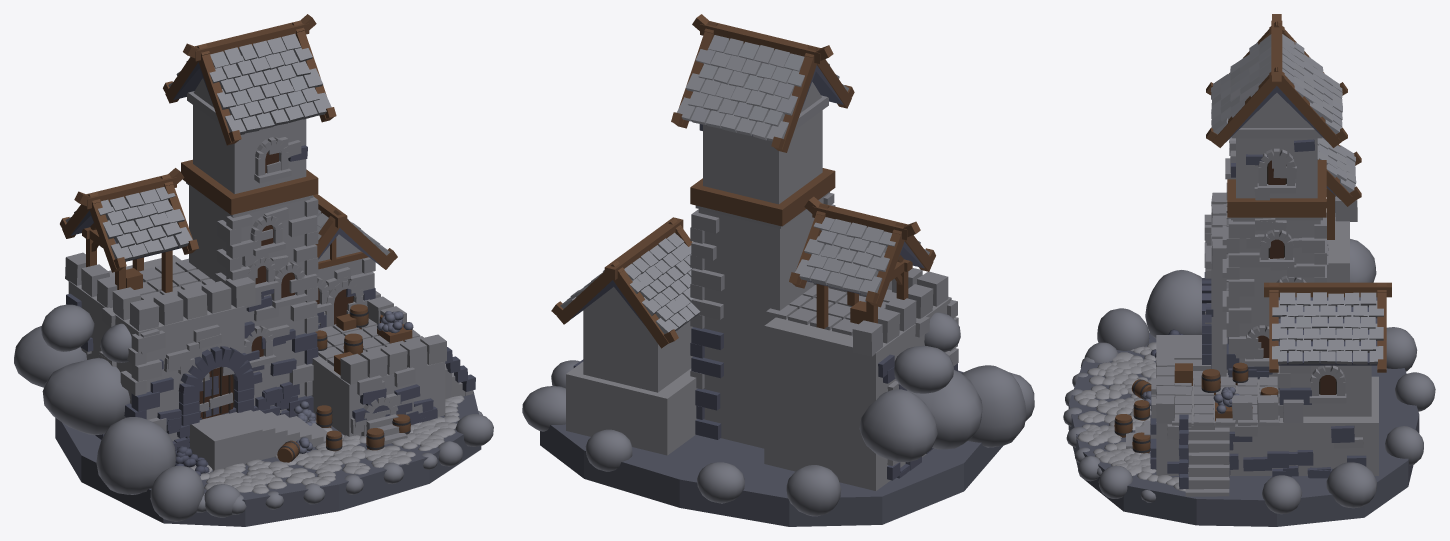
The picture shows the model from 3 angles, left to right: view 1: azimuth 30°, elevation 25°; view 2: azimuth 150°, elevation 25°; view 3: azimuth 270°, elevation 25°; orthographic projection. The views are drawn at different scales.
Parts seen in each view (by area): view 1: Boulders_And_Edge_Rocks, Main_Tower_Stone_Blocks_Light, Left_Gatehouse_Wall_Stone_Blocks_Light, Main_Tower_Masonry_Walls, Ground_Rock_Slab, Main_Tower_Roof_Shingles, Plaza_Cobblestones, Main_Tower_Timber, Right_Terrace_Stone_Blocks_Light, Left_Gatehouse_Wall_Stone_Blocks_Blue_Gray, Gate_Stair_And_Rubble_Stone_Blocks_Light, Left_Gatehouse_Wall_Masonry_Walls (+17 smaller); view 2: Main_Tower_Masonry_Walls, Boulders_And_Edge_Rocks, Ground_Rock_Slab, Left_Gatehouse_Wall_Masonry_Walls, Main_Tower_Roof_Shingles, Right_Terrace_Masonry_Walls, Main_Tower_Timber, Terrace_House_Masonry_Walls, Left_Gatehouse_Wall_Stone_Blocks_Light, Wall_Top_Pavilion_Timber, Wall_Top_Pavilion_Roof_Shingles, Terrace_House_Roof_Shingles (+4 smaller); view 3: Boulders_And_Edge_Rocks, Ground_Rock_Slab, Main_Tower_Stone_Blocks_Light, Terrace_House_Roof_Shingles, Main_Tower_Masonry_Walls, Right_Terrace_Masonry_Walls, Right_Terrace_Stone_Blocks_Light, Plaza_Cobblestones, Main_Tower_Timber, Main_Tower_Roof_Shingles, Right_Terrace_Stone_Blocks_Blue_Gray, Terrace_Stairs_Stone_Blocks_Light (+19 smaller).
Part boxes in pixels (x1,y1,x2,y2): Boulders_And_Edge_Rocks: [14, 304, 493, 521]; Main_Tower_Stone_Blocks_Light: [186, 91, 318, 414]; Left_Gatehouse_Wall_Stone_Blocks_Light: [65, 252, 255, 431]; Main_Tower_Masonry_Walls: [189, 78, 310, 410]; Ground_Rock_Slab: [55, 391, 481, 526]; Main_Tower_Roof_Shingles: [168, 33, 331, 134]; Plaza_Cobblestones: [190, 395, 464, 493]; Main_Tower_Timber: [163, 14, 336, 214]; Right_Terrace_Stone_Blocks_Light: [318, 291, 446, 436]; Left_Gatehouse_Wall_Stone_Blocks_Blue_Gray: [66, 293, 253, 449]; Gate_Stair_And_Rubble_Stone_Blocks_Light: [189, 410, 327, 470]; Left_Gatehouse_Wall_Masonry_Walls: [68, 255, 244, 441]; Main_Tower_Masonry_Walls: [698, 82, 825, 448]; Boulders_And_Edge_Rocks: [522, 312, 1034, 516]; Ground_Rock_Slab: [540, 370, 1002, 526]; Left_Gatehouse_Wall_Masonry_Walls: [764, 298, 950, 490]; Main_Tower_Roof_Shingles: [677, 35, 848, 141]; Right_Terrace_Masonry_Walls: [566, 362, 697, 455]; Main_Tower_Timber: [671, 14, 854, 226]; Terrace_House_Masonry_Walls: [583, 287, 692, 392]; Left_Gatehouse_Wall_Stone_Blocks_Light: [766, 268, 958, 465]; Wall_Top_Pavilion_Timber: [789, 196, 935, 328]; Wall_Top_Pavilion_Roof_Shingles: [795, 217, 929, 295]; Terrace_House_Roof_Shingles: [560, 232, 700, 333]; Boulders_And_Edge_Rocks: [1063, 239, 1435, 514]; Ground_Rock_Slab: [1068, 332, 1419, 526]; Main_Tower_Stone_Blocks_Light: [1222, 128, 1326, 376]; Terrace_House_Roof_Shingles: [1272, 292, 1383, 364]; Main_Tower_Masonry_Walls: [1233, 93, 1320, 376]; Right_Terrace_Masonry_Walls: [1156, 376, 1378, 475]; Right_Terrace_Stone_Blocks_Light: [1150, 357, 1363, 448]; Plaza_Cobblestones: [1074, 342, 1185, 491]; Main_Tower_Timber: [1206, 14, 1347, 217]; Main_Tower_Roof_Shingles: [1210, 34, 1342, 134]; Right_Terrace_Stone_Blocks_Blue_Gray: [1150, 391, 1366, 478]; Terrace_Stairs_Stone_Blocks_Light: [1126, 420, 1229, 496].
Bounding box in the file's own units: 1 × 0.959 × 0.8203.
